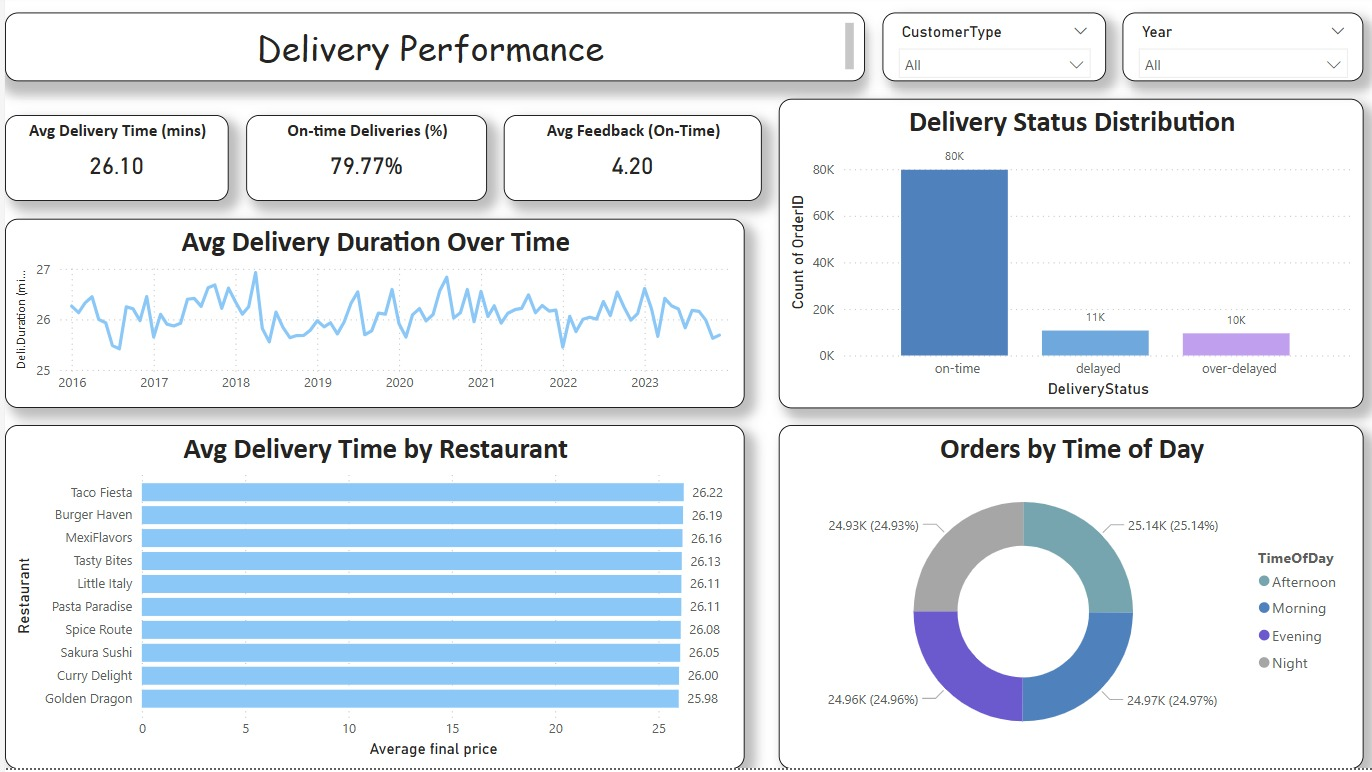

What the dashboard file says about the page in this screenshot:
{"tool":"powerbi","page":{"name":"Delivery Performance","canvas":[1280,720],"ordinal":4},"visuals":[{"type":"textbox","box":[0,0,800,80],"z":0},{"type":"card","title":"Avg Delivery Time (mins)","fields":{"Values":["Avg(Food_Delivery final dataset.DeliveryDurationMinutes)"]},"box":[0,112,208,80],"z":1000},{"type":"card","title":"On-time Deliveries (%)","fields":{"Values":["Food_Delivery final dataset.On-time Deliveries %"]},"box":[224,112,224,80],"z":2000},{"type":"card","title":"Avg Feedback (On-Time)","fields":{"Values":["Food_Delivery final dataset.Avg Feedback (On-Time)"]},"box":[464,112,240,80],"z":3000},{"type":"lineChart","title":"Avg Delivery Duration Over Time","fields":{"Category":["Food_Delivery final dataset.OrderDate.Variation.Date Hierarchy.Year","Food_Delivery final dataset.OrderDate.Variation.Date Hierarchy.Month"],"Y":["Avg(Food_Delivery final dataset.DeliveryDurationMinutes)"]},"box":[0,208,688,176],"z":4000},{"type":"columnChart","title":"Delivery Status Distribution","fields":{"Category":["Food_Delivery final dataset.DeliveryStatus"],"Y":["CountNonNull(Food_Delivery final dataset.OrderID)"]},"box":[720,96,544,288],"z":5000},{"type":"clusteredBarChart","title":"Avg Delivery Time by Restaurant","fields":{"Category":["Food_Delivery final dataset.Restaurant"],"Y":["Avg(Food_Delivery final dataset.DeliveryDurationMinutes)"]},"box":[0,400,688,320],"z":6000},{"type":"slicer","fields":{"Values":["Food_Delivery final dataset.CustomerType"]},"box":[816,0,208,80],"z":7000},{"type":"slicer","fields":{"Values":["Food_Delivery final dataset.OrderDate.Variation.Date Hierarchy.Year"]},"box":[1040,0,224,80],"z":8000},{"type":"donutChart","title":"Orders by Time of Day","fields":{"Category":["Food_Delivery final dataset.TimeOfDay"],"Y":["CountNonNull(Food_Delivery final dataset.OrderID)"]},"box":[720,400,544,320],"z":9000}]}

Visuals, with their boxes in screenshot pixels (x1, y1, x2, y2), scaled from the page's 1280x720 canvas onto the 1372x772 screenshot:
textbox: Rect(0, 0, 857, 86)
"Avg Delivery Time (mins)" card: Rect(0, 120, 223, 206)
"On-time Deliveries (%)" card: Rect(240, 120, 480, 206)
"Avg Feedback (On-Time)" card: Rect(497, 120, 755, 206)
"Avg Delivery Duration Over Time" lineChart: Rect(0, 223, 737, 412)
"Delivery Status Distribution" columnChart: Rect(772, 103, 1355, 412)
"Avg Delivery Time by Restaurant" clusteredBarChart: Rect(0, 429, 737, 771)
slicer - Food_Delivery final dataset.CustomerType: Rect(875, 0, 1098, 86)
slicer - Food_Delivery final dataset.OrderDate.Variation.Date Hierarchy.Year: Rect(1115, 0, 1355, 86)
"Orders by Time of Day" donutChart: Rect(772, 429, 1355, 771)
